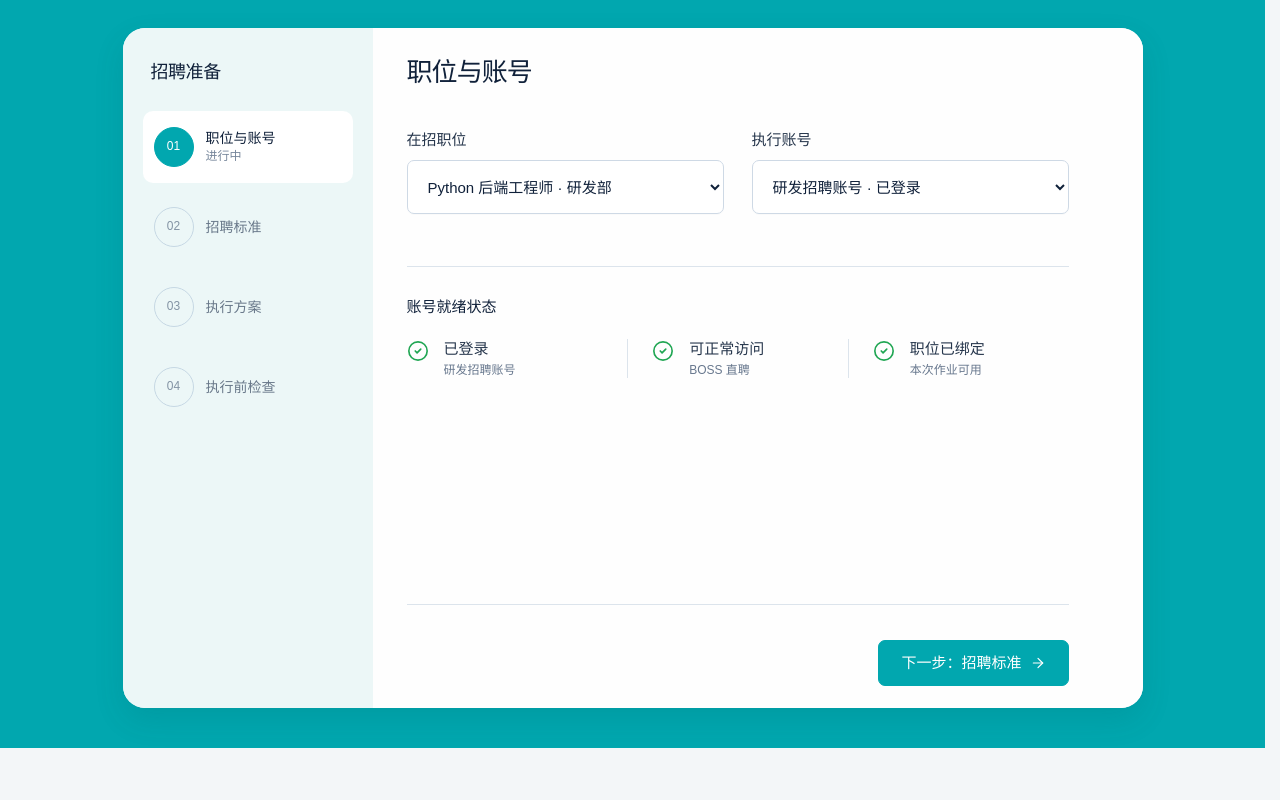
Test: RecruitmentWorkbenchView › resets the persistent work area for every newly selected step
The image size is (1280, 800).
Expected: the number of buttons with class "workbench-wizard__step" is 4, x1=142 y1=111 x2=352 y2=183; x1=142 y1=191 x2=352 y2=263; x1=142 y1=271 x2=352 y2=343; x1=142 y1=351 x2=352 y2=423
Click the button with test id "complete-context-step": (974, 662) x1=878 y1=640 x2=1068 y2=686
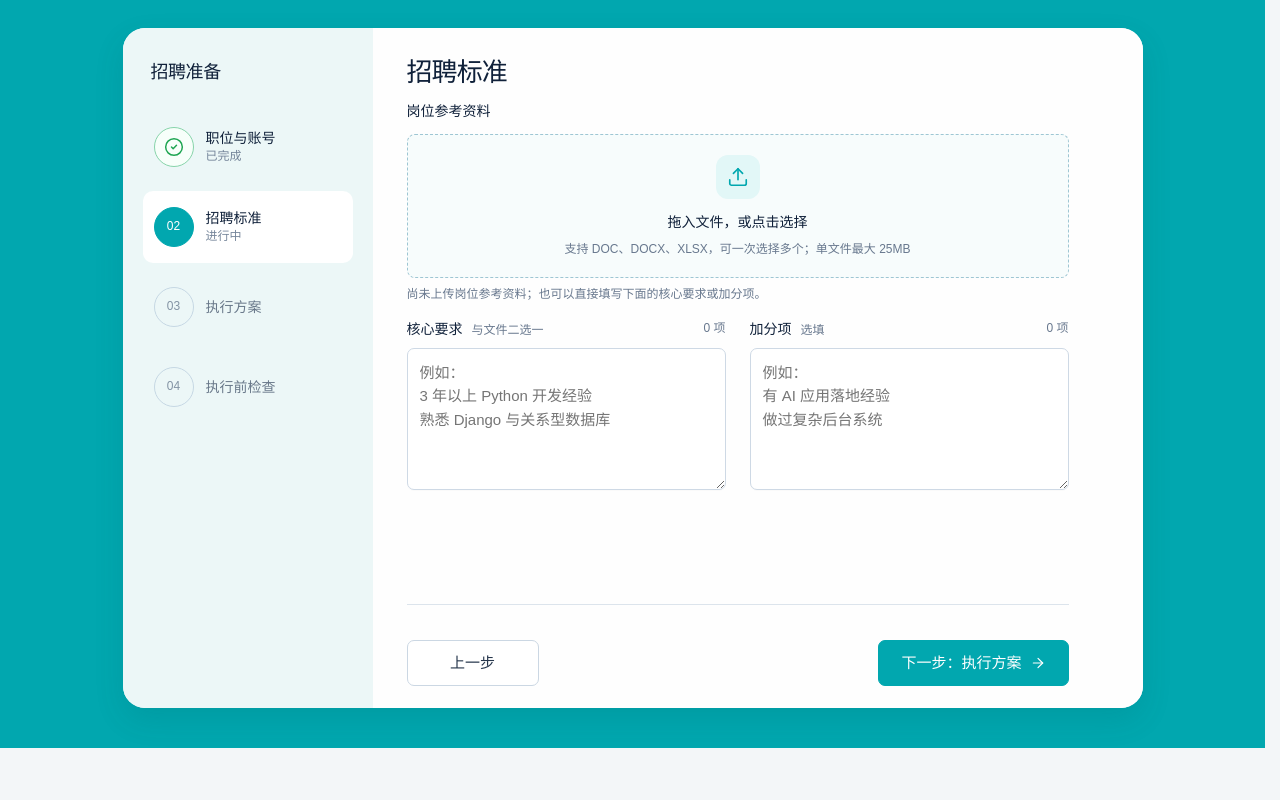
Expected: the element with test id "workbench-step-standard" is shown, x1=406 y1=100 x2=1068 y2=708
Click the button with test id "complete-standard-step": (974, 662) x1=878 y1=640 x2=1068 y2=686
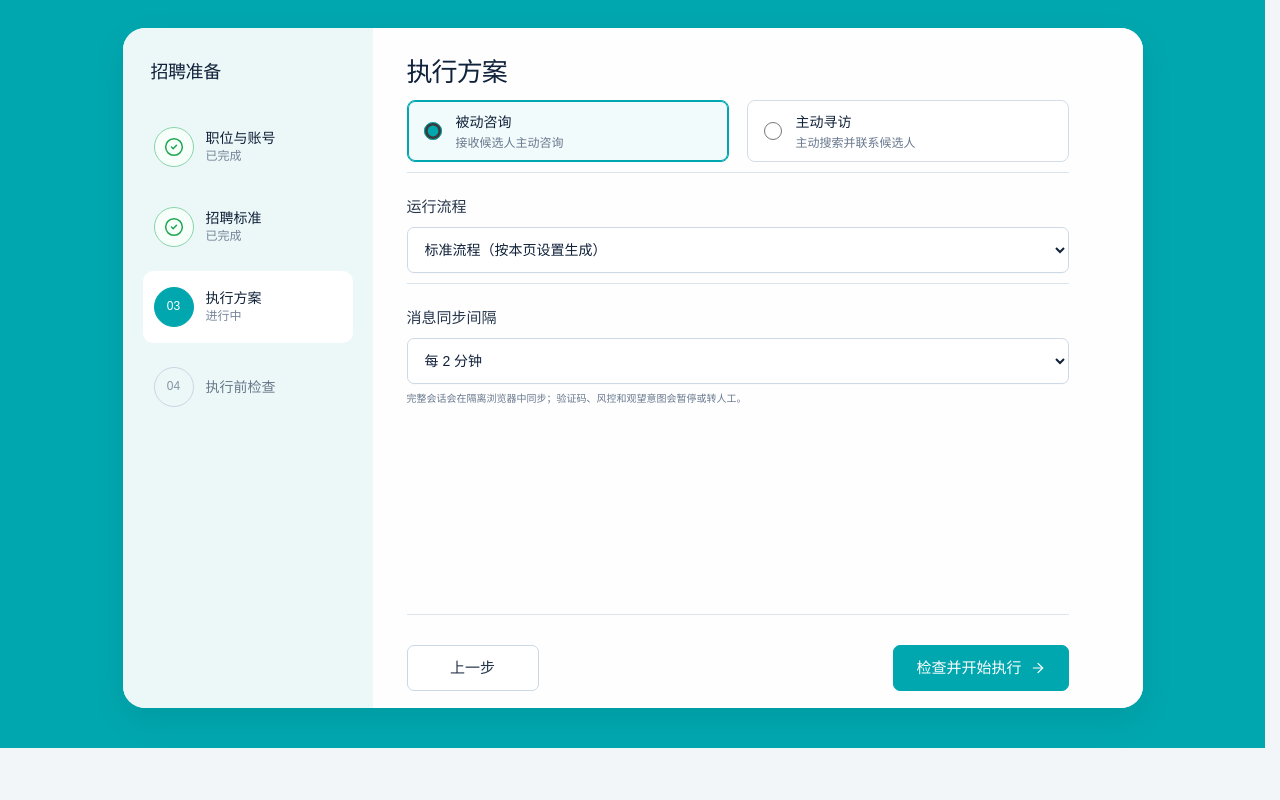
Click the button with test id "complete-plan-step": (981, 668) x1=894 y1=644 x2=1068 y2=690
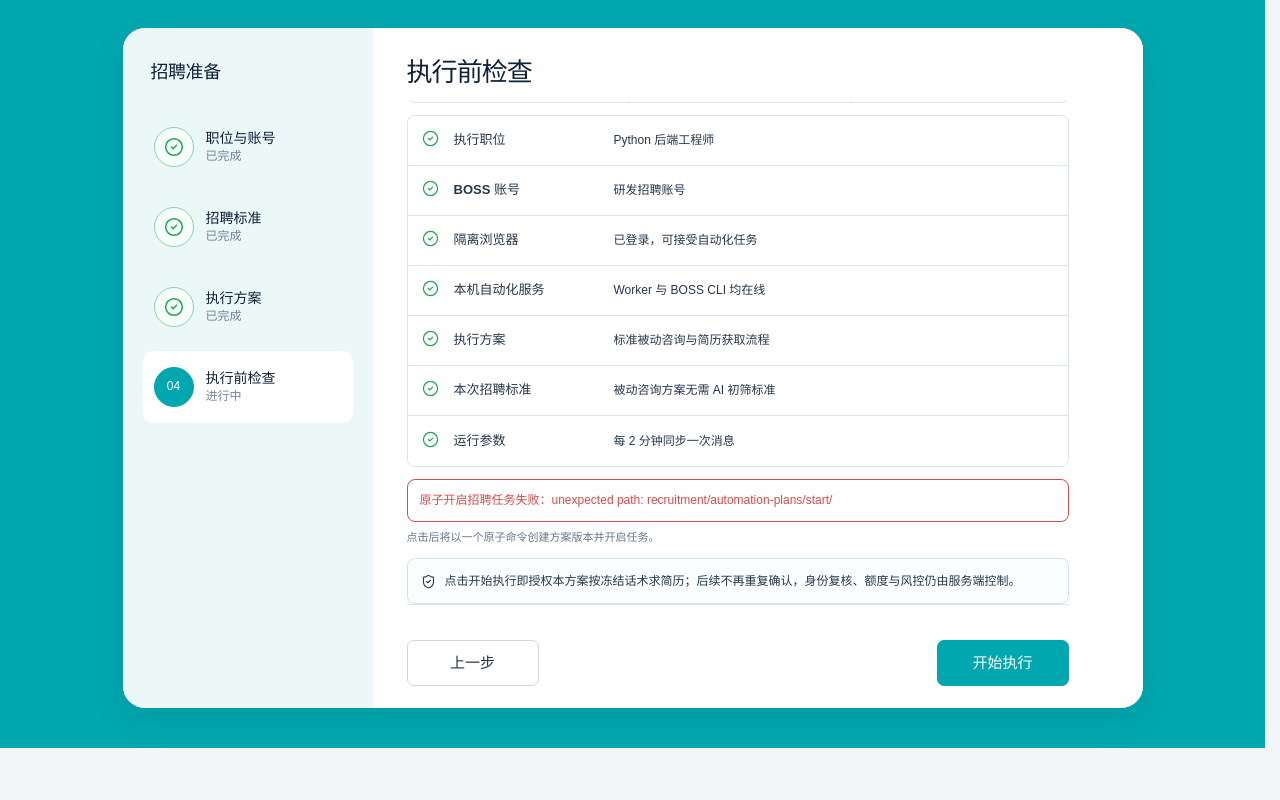
Expected: the element with test id "workbench-step-review" is shown, x1=406 y1=100 x2=1068 y2=708
Expected: the number of list items is 7
Click the button with test id "wizard-step-standard": (248, 227) x1=142 y1=191 x2=352 y2=263
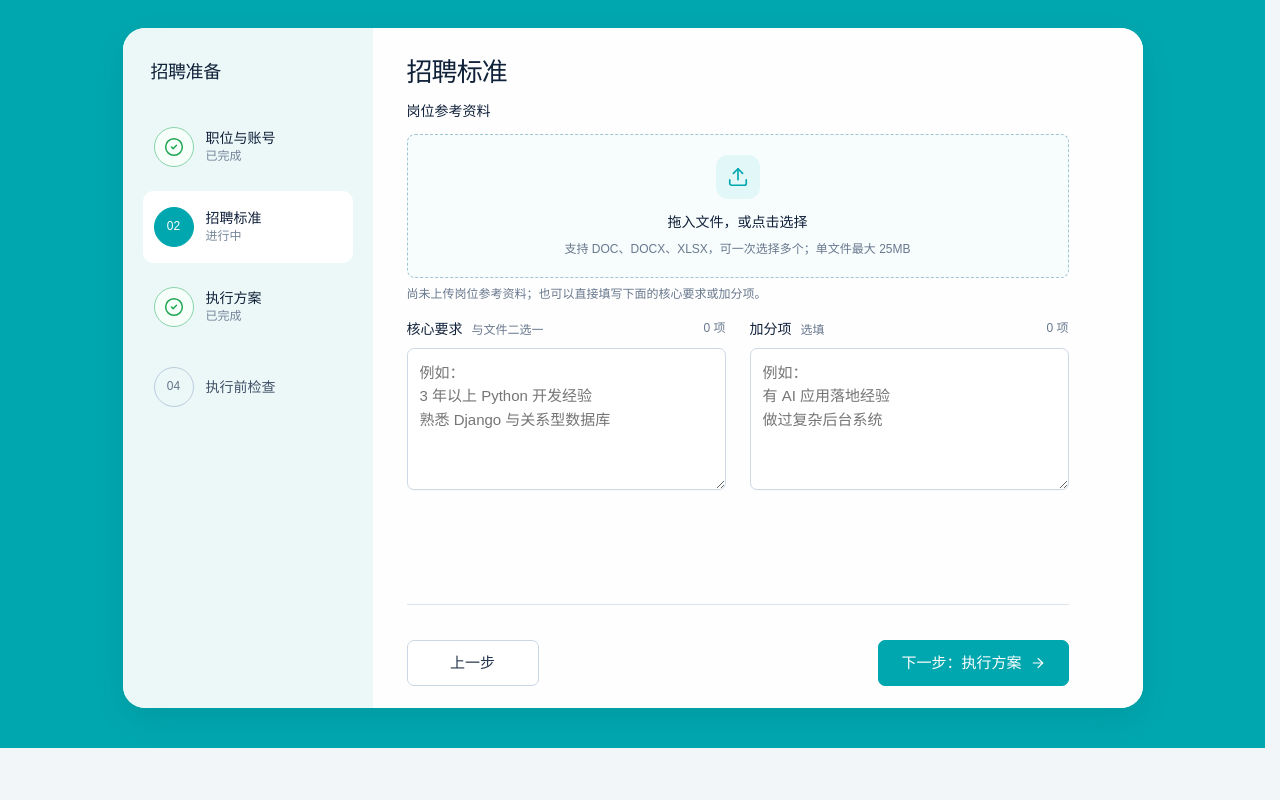
Expected: the element with test id "workbench-step-standard" is shown, x1=406 y1=100 x2=1068 y2=708
